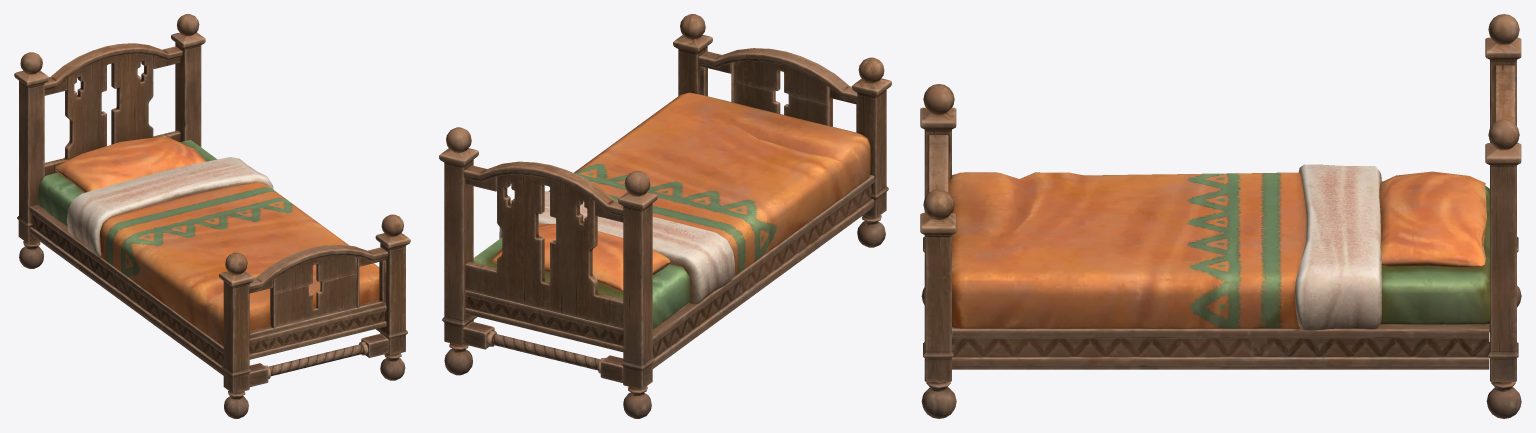
The picture shows the model from 3 angles, left to right: view 1: azimuth 30°, elevation 25°; view 2: azimuth 150°, elevation 25°; view 3: azimuth 270°, elevation 25°; orthographic projection. The views are drawn at different scales.
Parts seen in each view (by area): view 1: SM_Umbral_Sands_Bed_01v1_LOD0; view 2: SM_Umbral_Sands_Bed_01v1_LOD0; view 3: SM_Umbral_Sands_Bed_01v1_LOD0.
Part boxes in pixels (x1,y1,x2,y2): SM_Umbral_Sands_Bed_01v1_LOD0: (14, 14, 410, 418); SM_Umbral_Sands_Bed_01v1_LOD0: (439, 14, 891, 418); SM_Umbral_Sands_Bed_01v1_LOD0: (920, 14, 1521, 418).
Size of the model in its own units: 1.01 by 1.15 by 2.11.
Materials: 1 (1 with a texture image).
